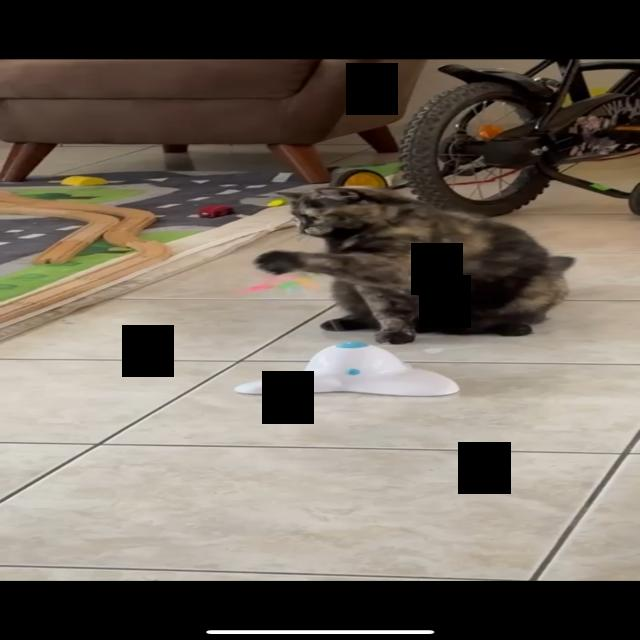authorized: (252, 185, 576, 345)
